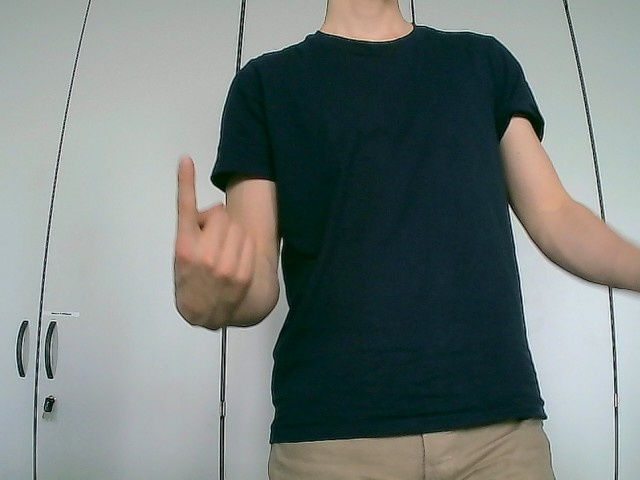up: (172, 155, 258, 329)
